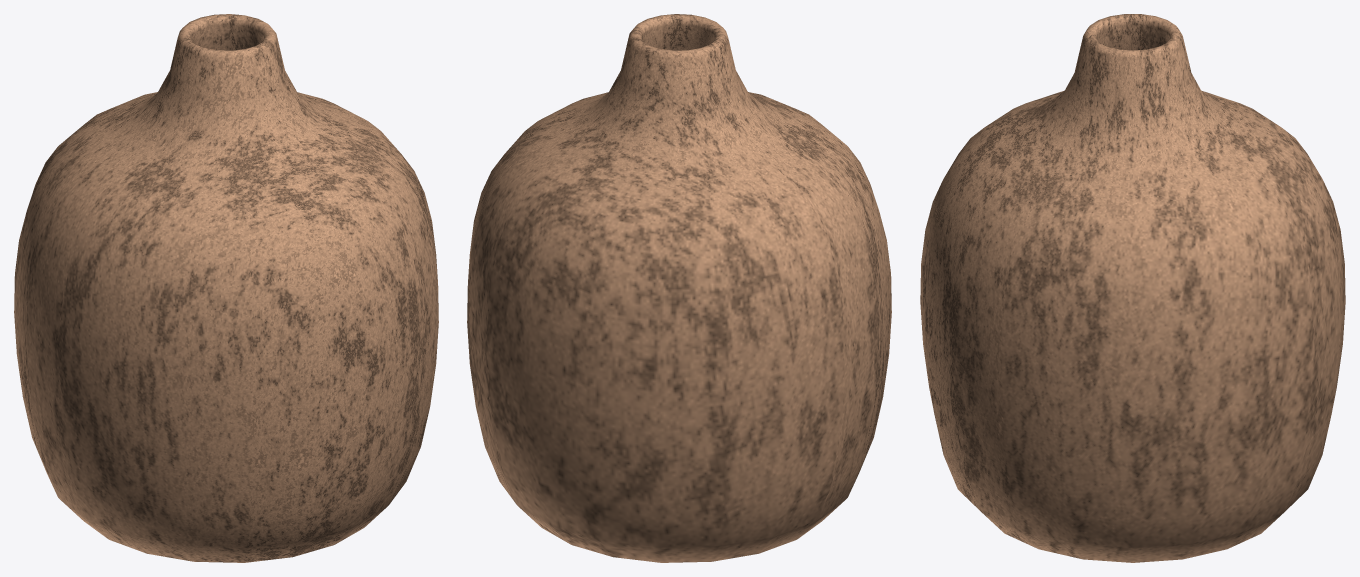
Rendered from Vase-3-beige.glb.
3 renders of one model, left to right at view 1: azimuth 30°, elevation 25°; view 2: azimuth 150°, elevation 25°; view 3: azimuth 270°, elevation 25°, orthographic.
Visible parts, largest first — view 1: Vase_3; view 2: Vase_3; view 3: Vase_3.
Boxes of the visible parts, <box> form: Vase_3: <box>14,14,438,562</box>; Vase_3: <box>467,14,891,562</box>; Vase_3: <box>920,14,1345,562</box>.
Bounding box in the file's own units: 0.9653 × 1.18 × 0.9686.
Materials: 1 (1 with a texture image).
